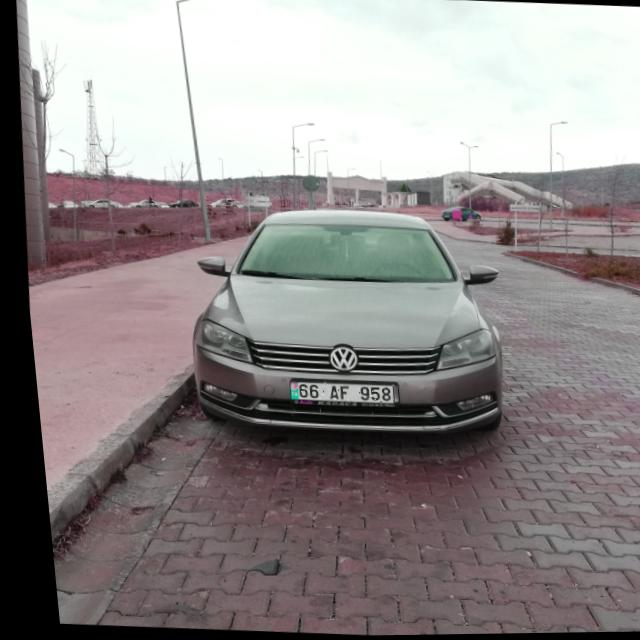license_plate: (282, 381, 391, 406)
